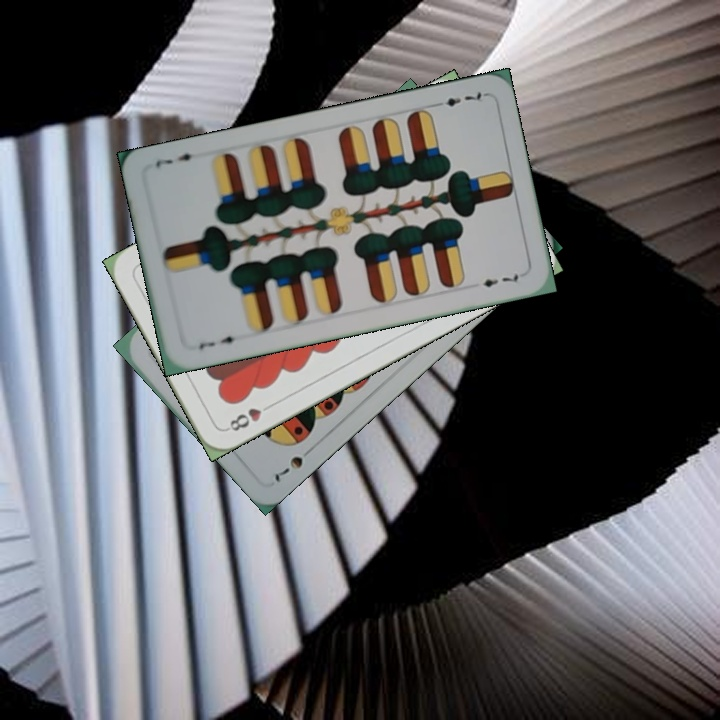E7: (195, 332, 244, 352), (442, 88, 488, 109)
H8: (222, 399, 276, 434)
S7: (270, 442, 317, 484)
